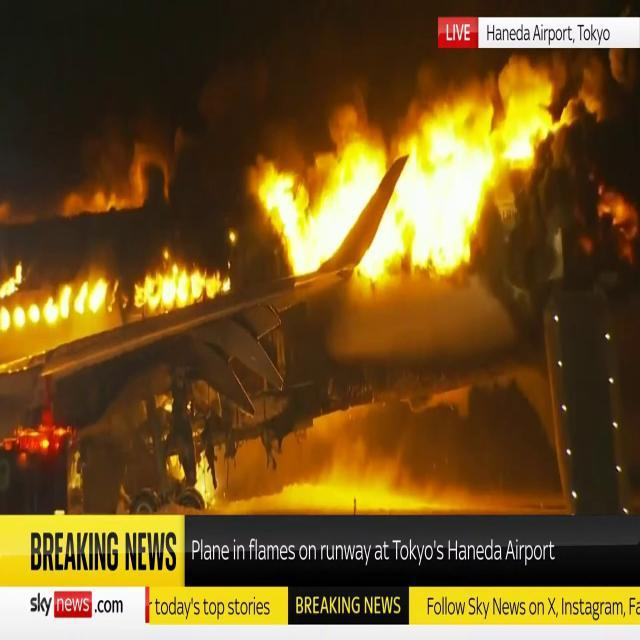Fire: (249, 73, 561, 287), (0, 263, 228, 330)
